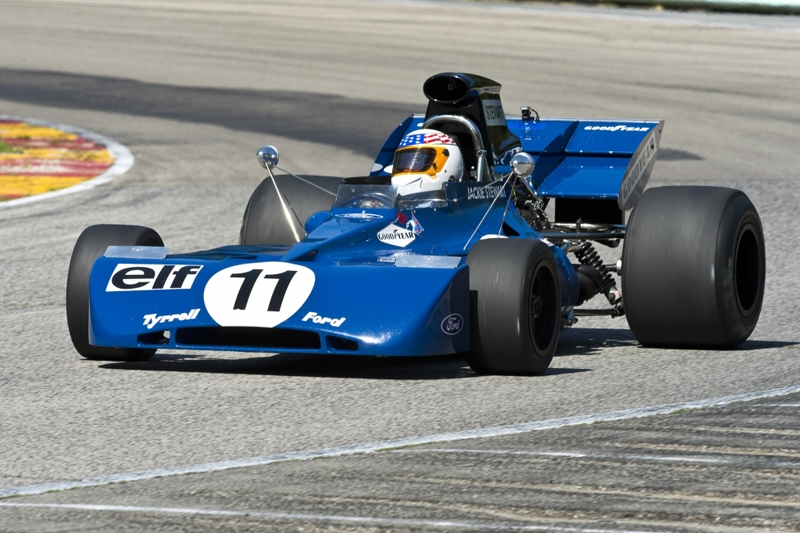f1_car: (58, 64, 778, 388)
